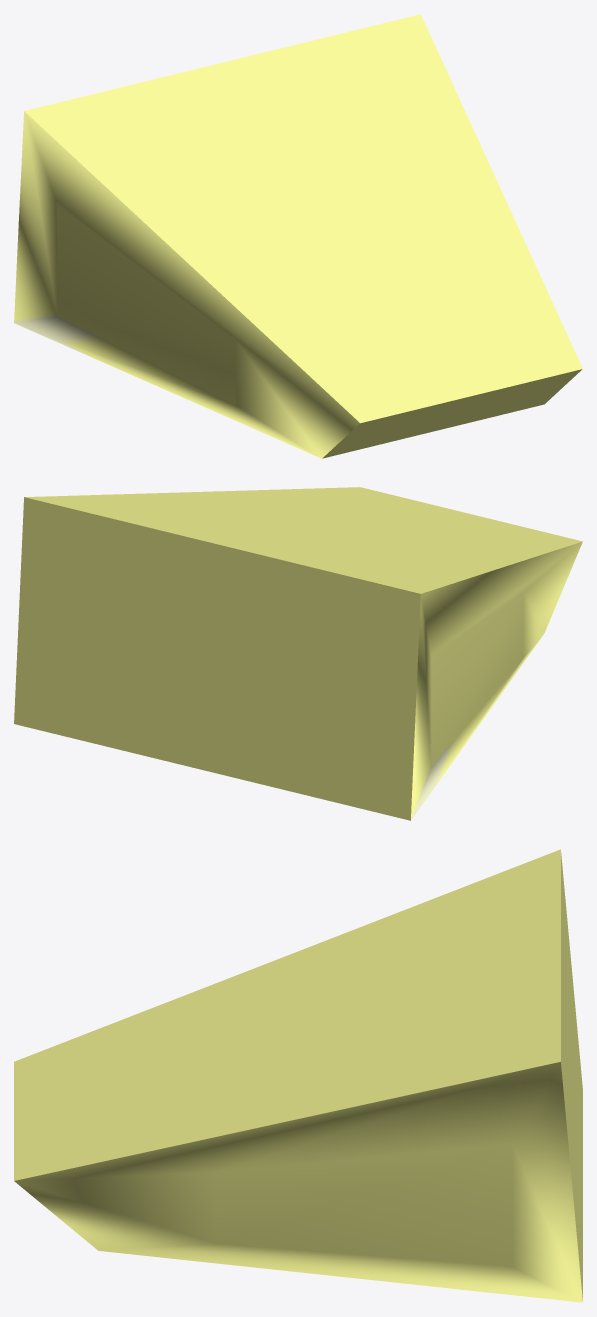
File: link_finger_tip_boxified.obj
3 views of the same model, one above another, from view 1: azimuth 30°, elevation 25°; view 2: azimuth 150°, elevation 25°; view 3: azimuth 270°, elevation 25° (orthographic). The views are drawn at different scales.
Parts seen in each view (by area): view 1: link_finger_distal_boxified:link_finger_distal_boxified.001; view 2: link_finger_distal_boxified:link_finger_distal_boxified.001; view 3: link_finger_distal_boxified:link_finger_distal_boxified.001.
Boxes of the visible parts, box(x1,y1,x2,y2) form: link_finger_distal_boxified:link_finger_distal_boxified.001: box(14, 14, 582, 458); link_finger_distal_boxified:link_finger_distal_boxified.001: box(14, 487, 582, 820); link_finger_distal_boxified:link_finger_distal_boxified.001: box(14, 849, 582, 1302).
Size of the model in its own units: 0.0424 by 0.0224 by 0.048.
1 material, 1 textured.
